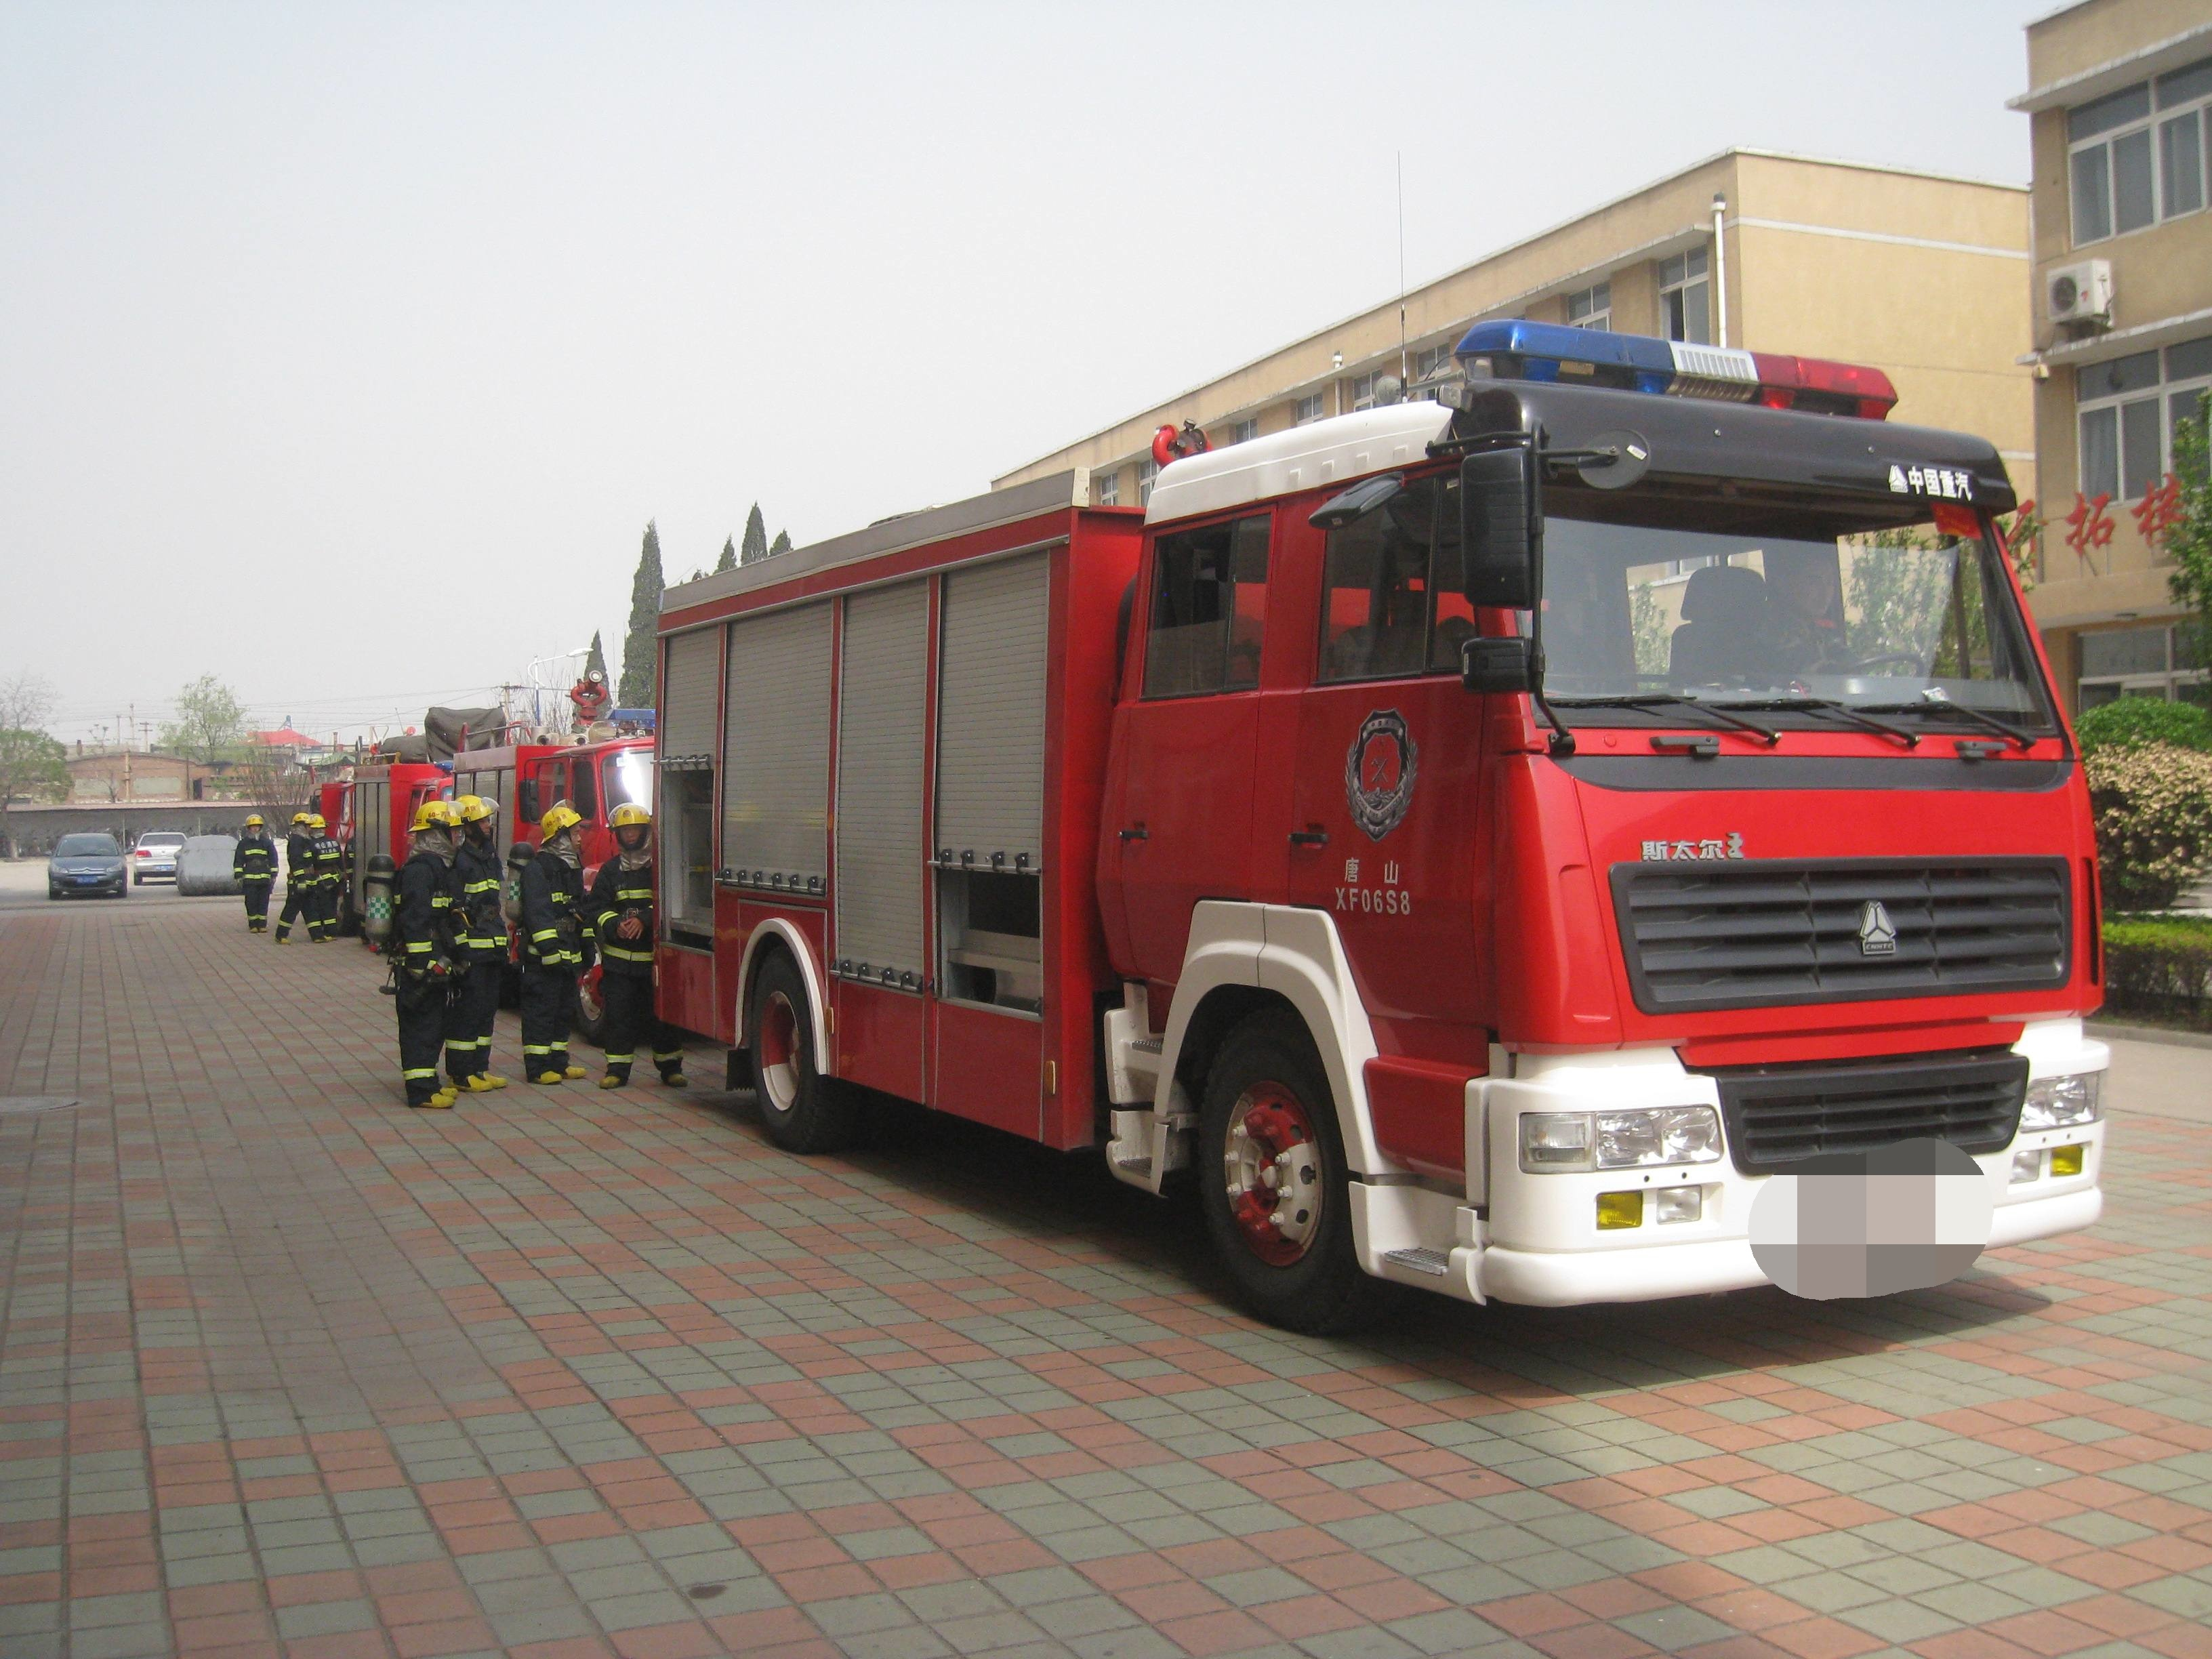fire engine: (620, 357, 2132, 1371)
